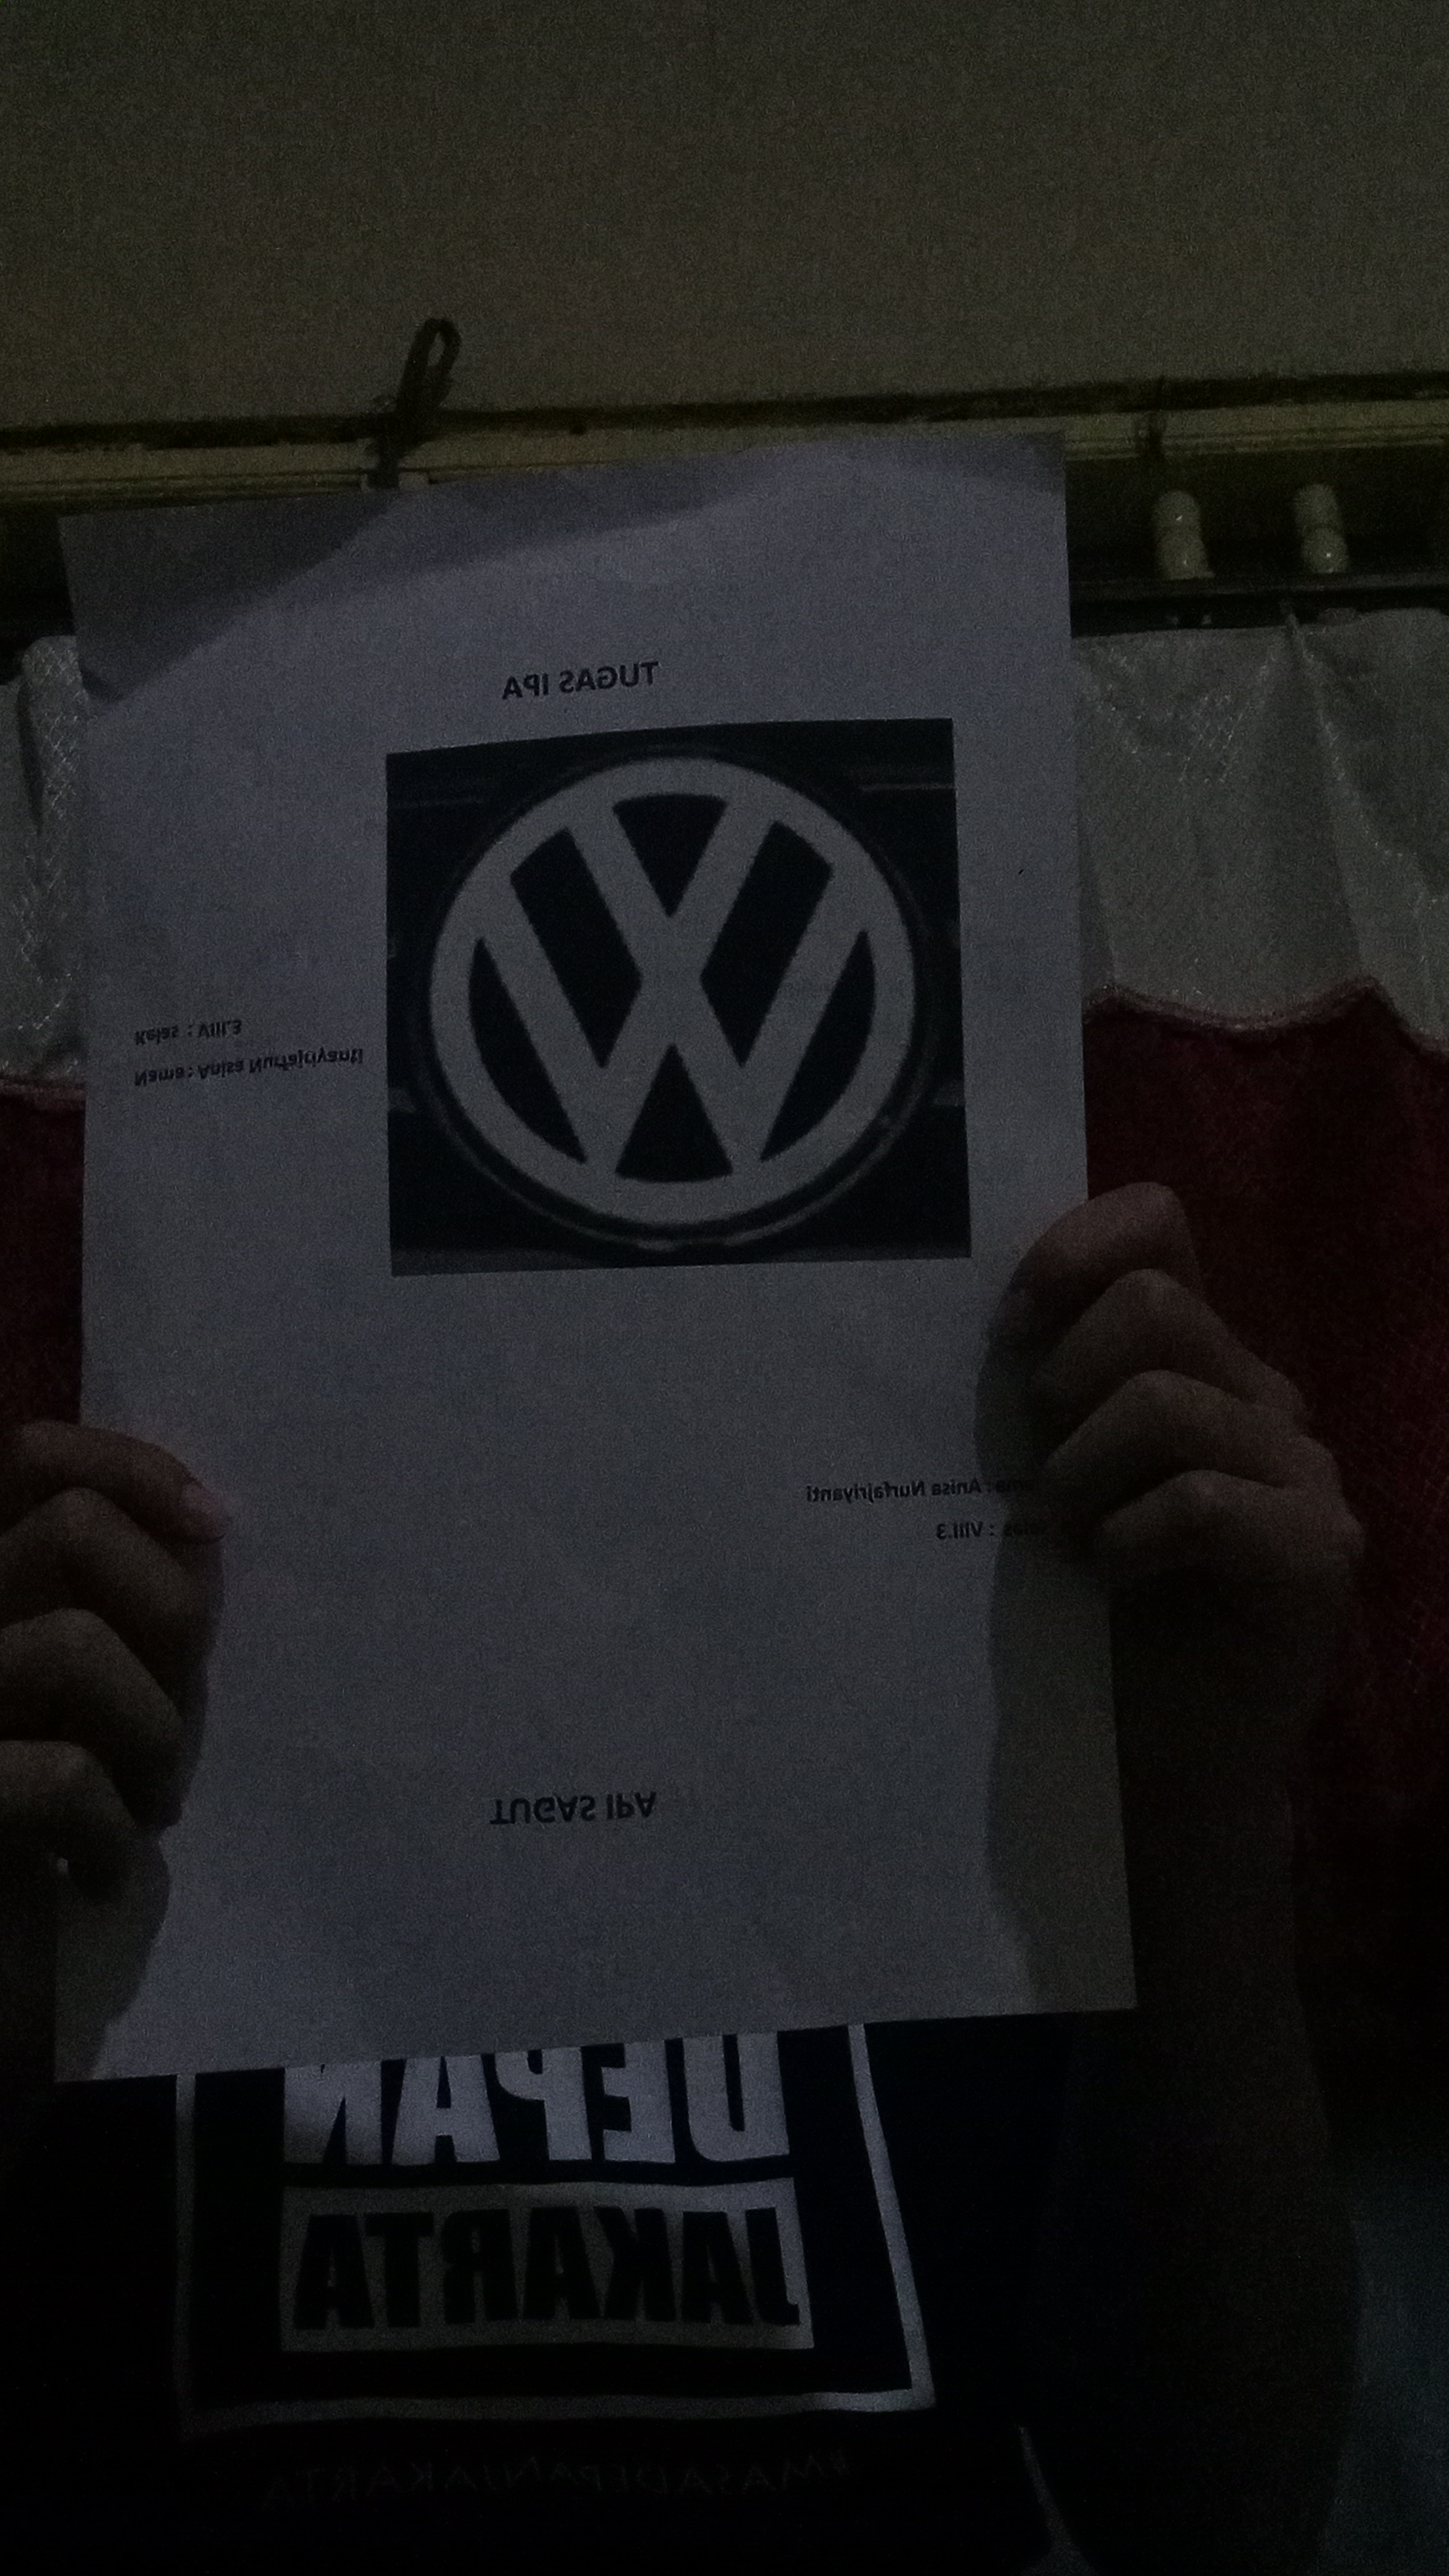Volkswagen: (373, 740, 964, 1269)
